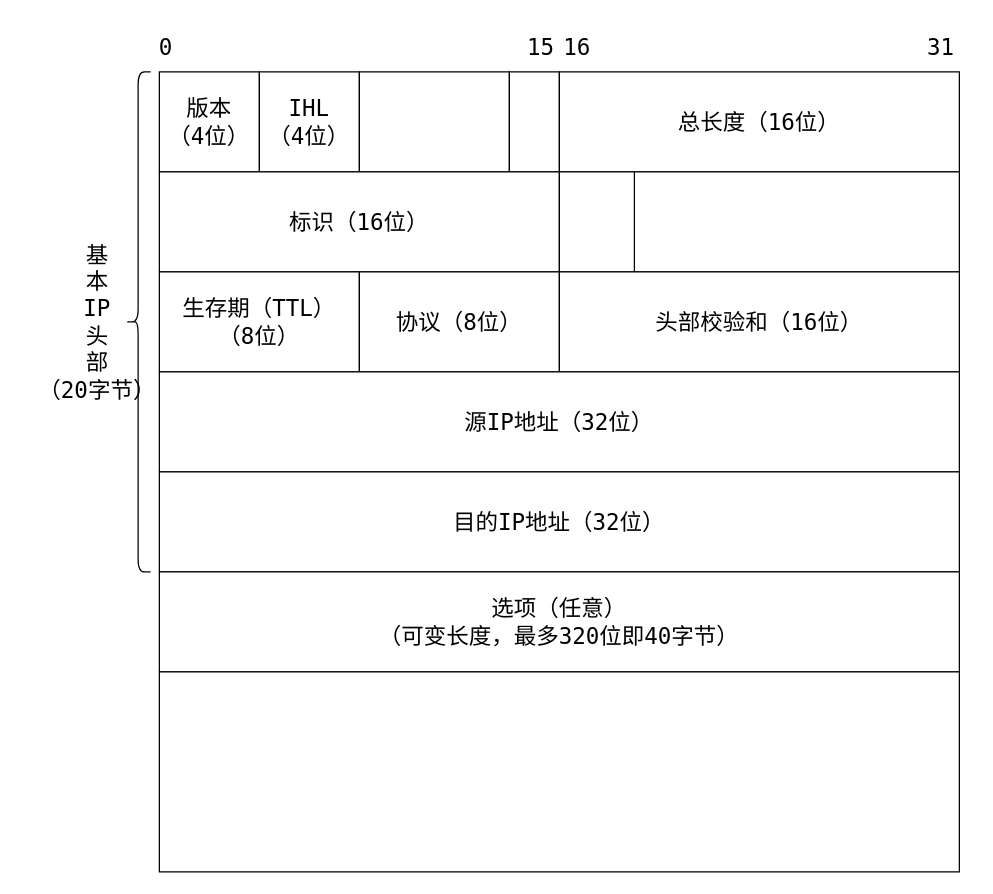
The diagram is 993 pixels wide and 894 high, and some of its shapes have lost their labels. The centre of each missing label's shape, as x and y in pixels:
"DS字段 （6位）" belongs at point 433,121.
"ECN" belongs at point 533,121.
"IP数据（任意） （可变长度，最多524120位即65515字节）" belongs at point 558,771.
"分片偏移（13位）" belongs at point 796,221.
"标志" belongs at point 596,221.
